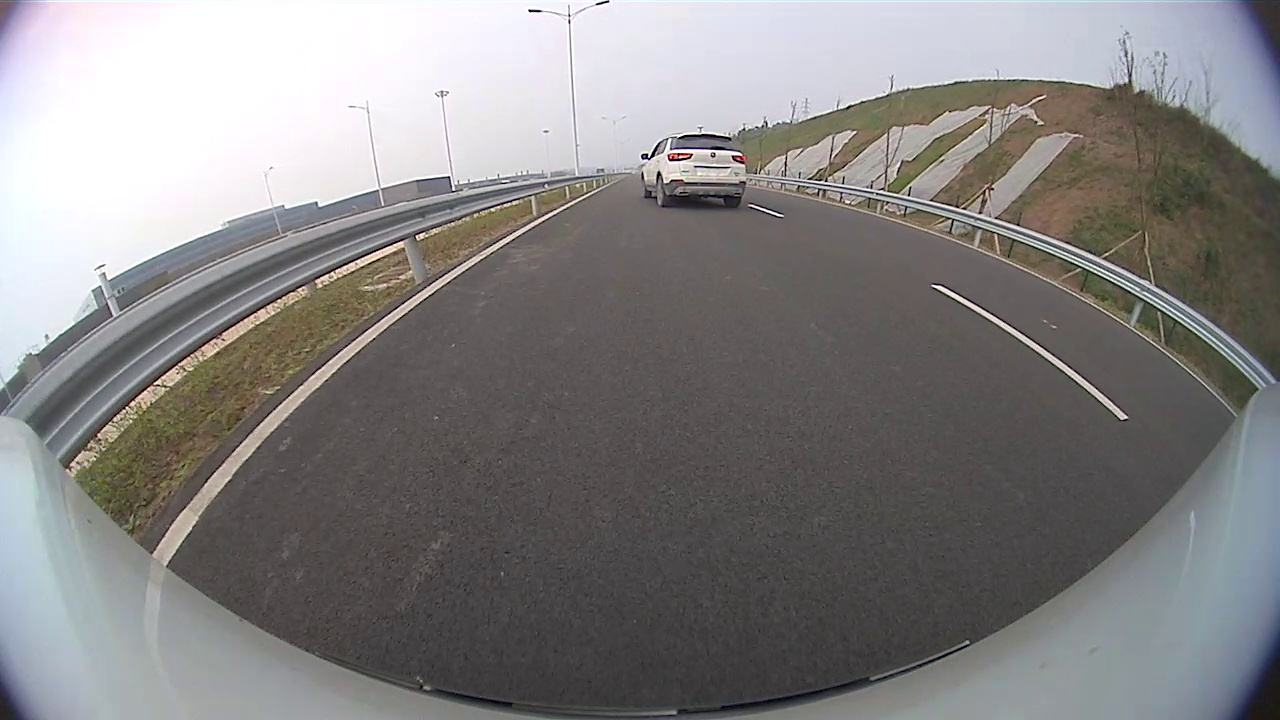car: (639, 132, 748, 210)
front: (640, 173, 651, 198)
rear: (654, 175, 671, 207)
